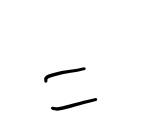eqv: (44, 67, 97, 112)
